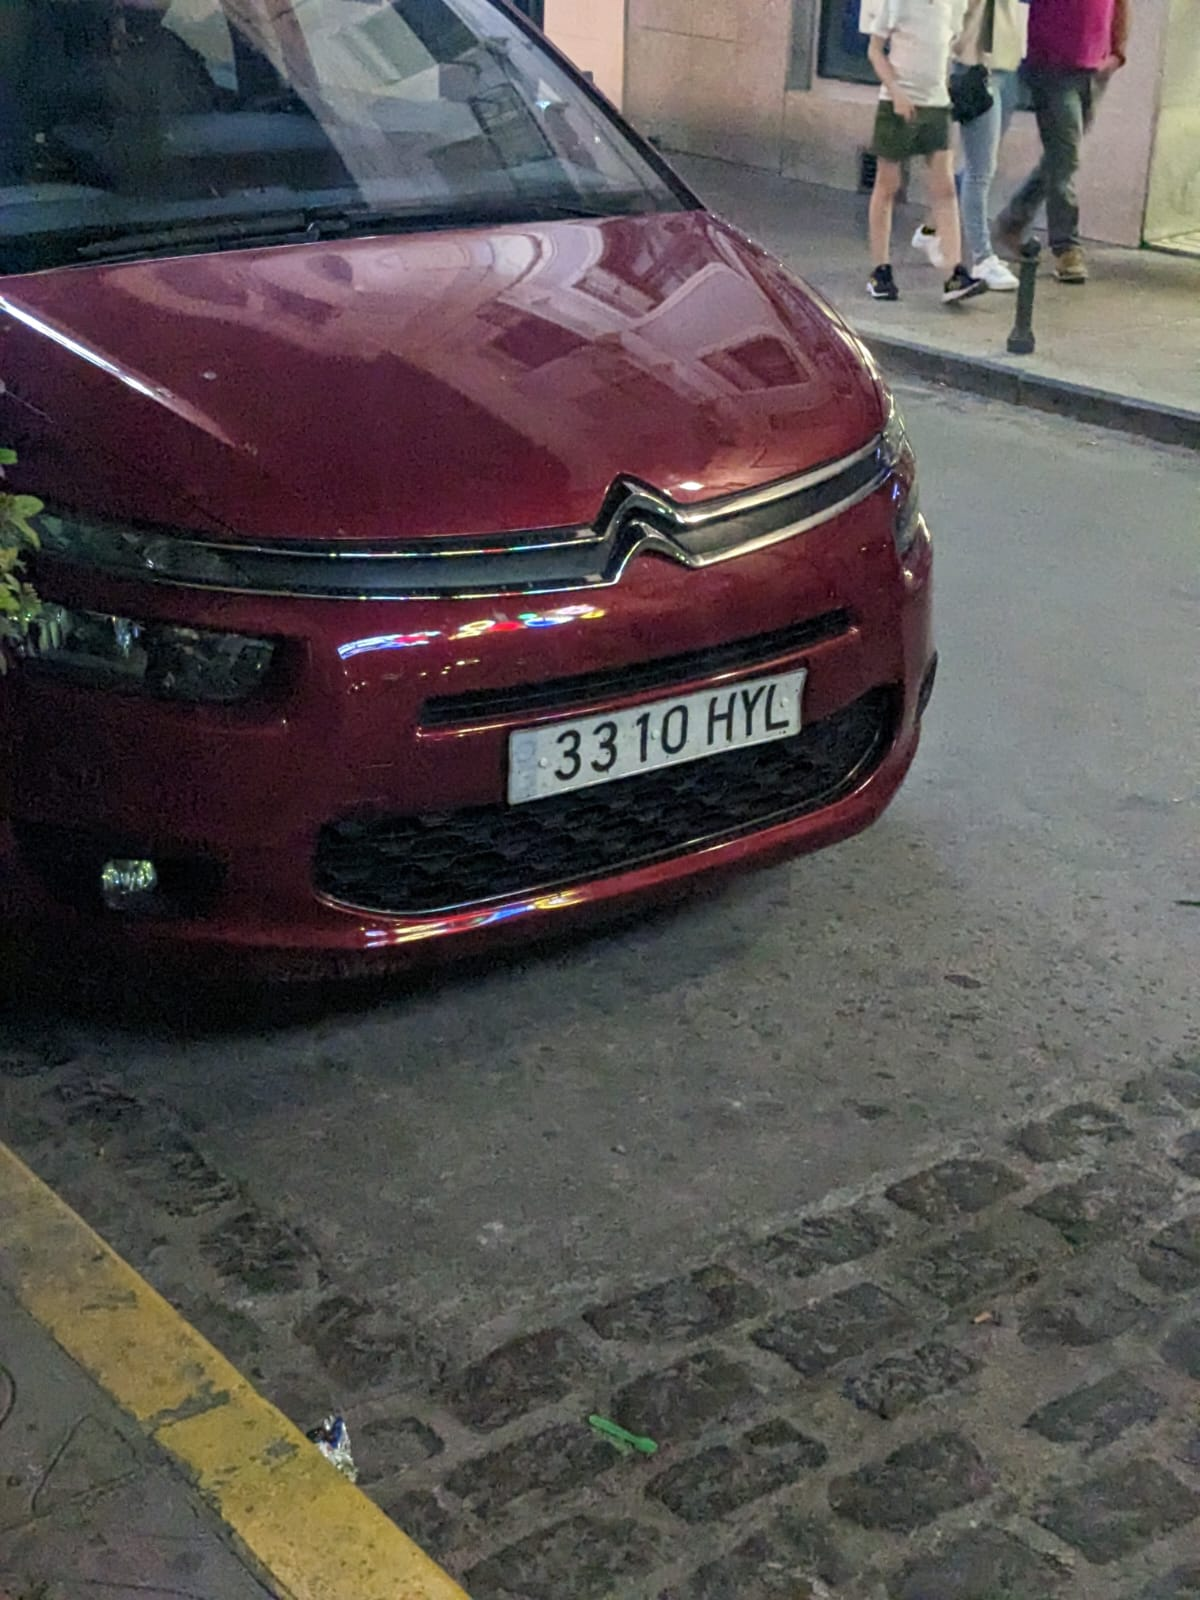car: (1, 4, 993, 980)
